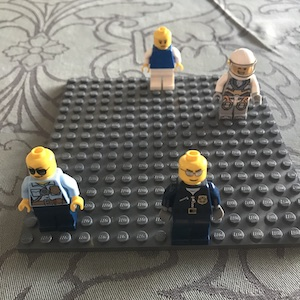Lego: (15, 145, 84, 232), (163, 149, 223, 246), (213, 46, 263, 121), (141, 26, 183, 93)
